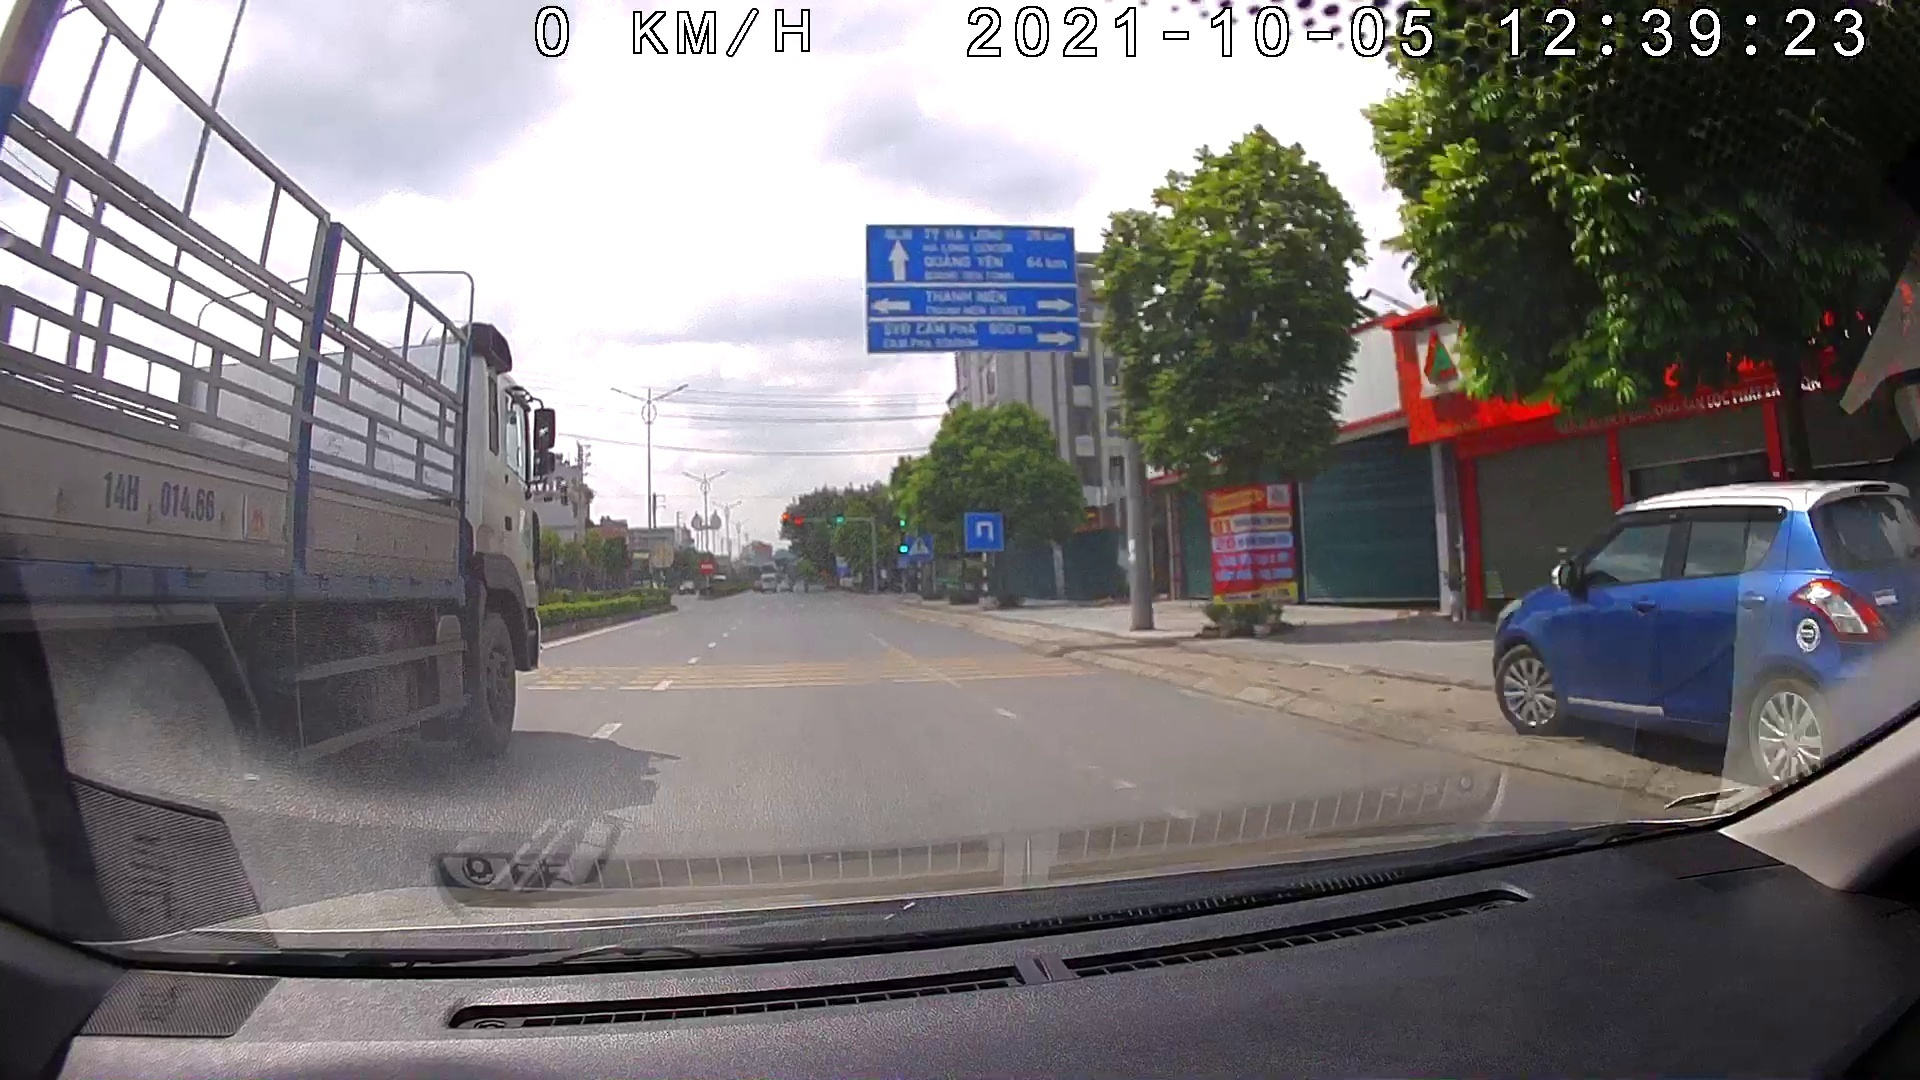Bien khac: (961, 508, 1004, 558)
Cam di nguoc chieu: (696, 554, 715, 574)
Nguoi di bo: (907, 527, 934, 556)
